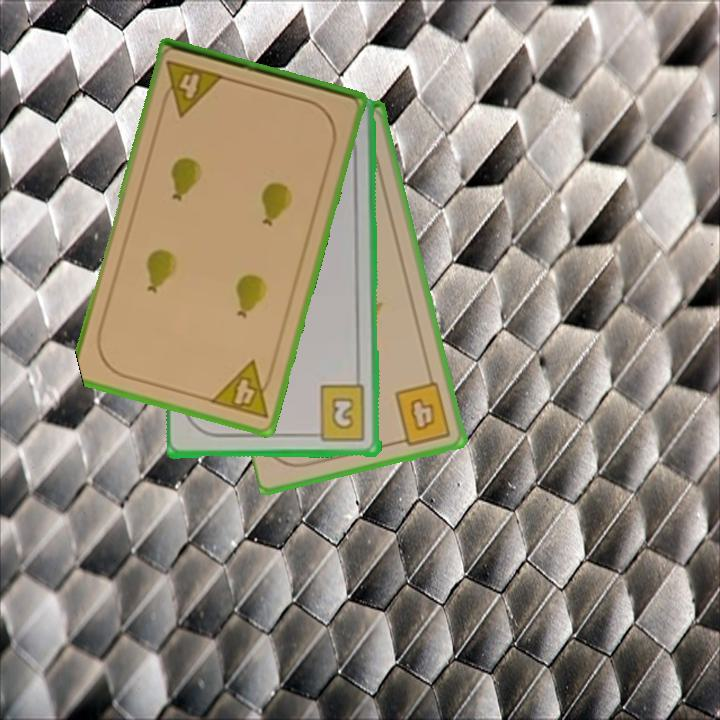2b: (307, 383, 369, 444)
4b: (391, 378, 454, 448)
4p: (206, 357, 278, 422), (157, 57, 227, 119)
